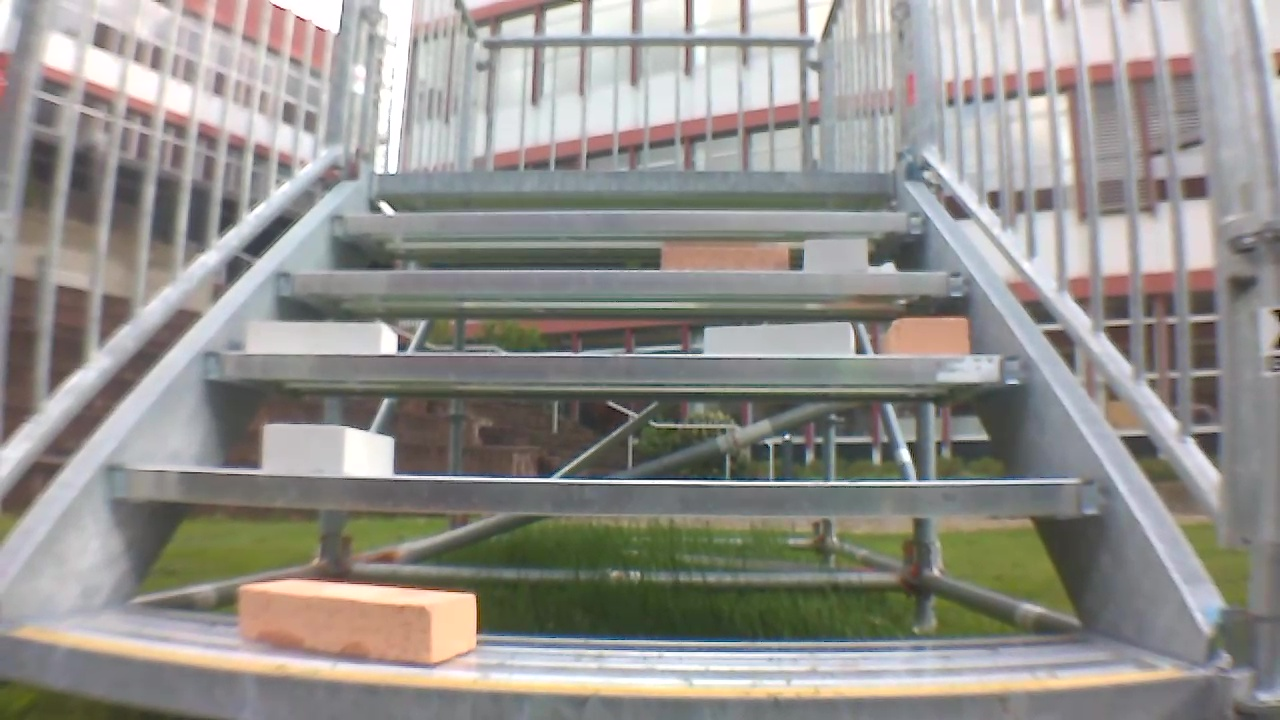brick: (238, 580, 477, 666), (264, 425, 393, 477), (704, 322, 853, 356), (245, 321, 396, 353), (662, 241, 788, 269), (888, 317, 967, 354), (803, 239, 868, 272)
edge: (2, 638, 1221, 720), (112, 464, 1102, 515), (207, 352, 1025, 382), (276, 269, 971, 294), (331, 211, 926, 232), (372, 170, 895, 191)
stairs: (5, 2, 1275, 719)
steps: (4, 161, 1227, 720)
